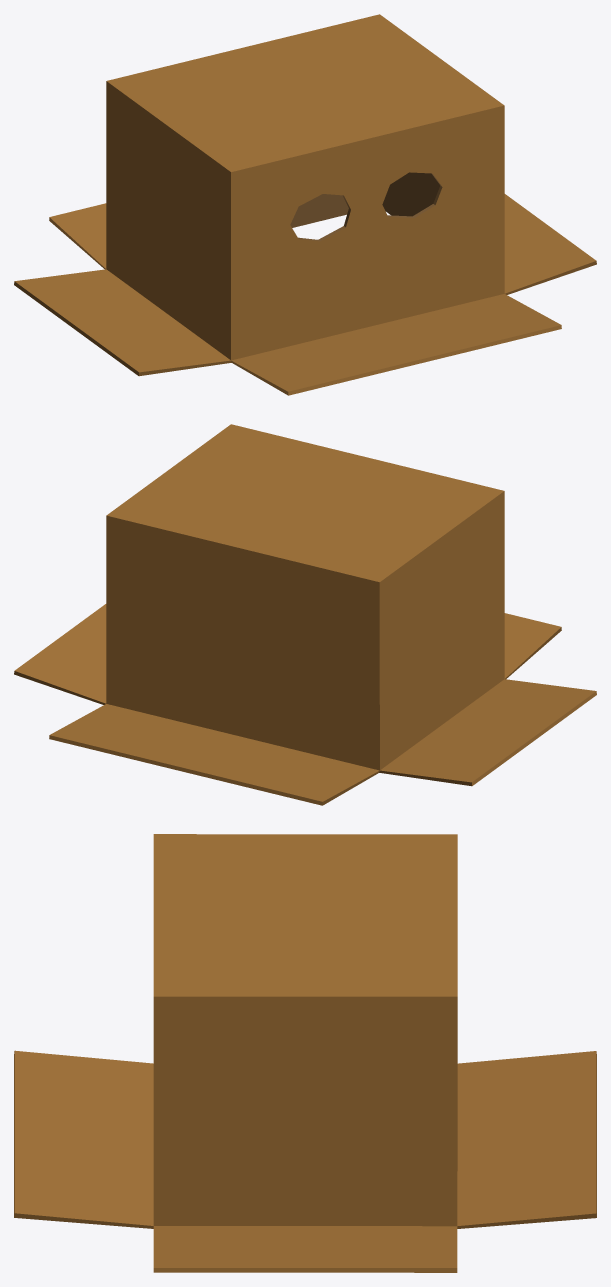
The model's file is hide_box_04.fbx.
The picture shows the model from 3 angles, top to bottom: view 1: azimuth 30°, elevation 25°; view 2: azimuth 150°, elevation 25°; view 3: azimuth 270°, elevation 25°; orthographic projection. The views are drawn at different scales.
Parts seen in each view (by area): view 1: Box003; view 2: Box003; view 3: Box003.
Part boxes in pixels (bbox=[...]): Box003: bbox=[14, 14, 596, 395]; Box003: bbox=[14, 424, 596, 805]; Box003: bbox=[14, 834, 596, 1272].
Bounding box in the file's own units: 235 × 93.79 × 212.
1 material, 1 textured.
